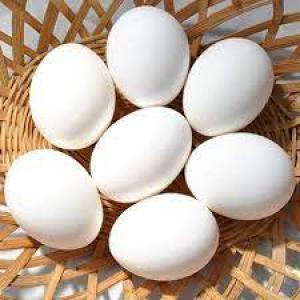Egg: (87, 106, 194, 205), (2, 149, 105, 251), (108, 192, 221, 284), (183, 131, 298, 221), (181, 35, 277, 137), (28, 42, 118, 150), (105, 5, 192, 108)
